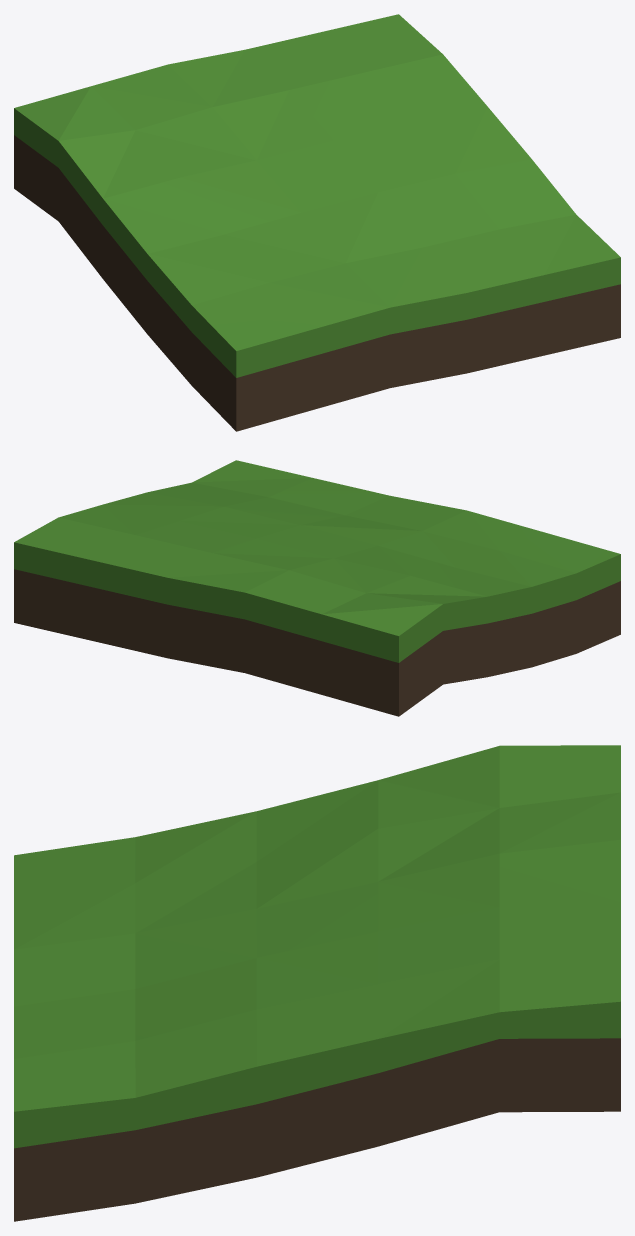
Rendered from terrain-world-slope2.glb.
The picture shows the model from 3 angles, top to bottom: view 1: azimuth 30°, elevation 25°; view 2: azimuth 150°, elevation 25°; view 3: azimuth 270°, elevation 25°; orthographic projection. The views are drawn at different scales.
Visible parts, largest first — view 1: terrain-world-slope2; view 2: terrain-world-slope2; view 3: terrain-world-slope2.
Boxes of the visible parts, x1,y1,x2,y2 form: terrain-world-slope2: [14, 14, 620, 431]; terrain-world-slope2: [14, 460, 620, 716]; terrain-world-slope2: [14, 745, 620, 1221].
Size of the model in its own units: 30 by 12.45 by 30.
Materials: 1 (1 with a texture image).
